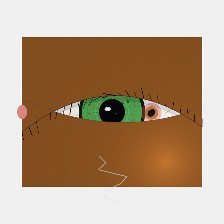foreign_body_visible: (64, 111, 113, 151)
